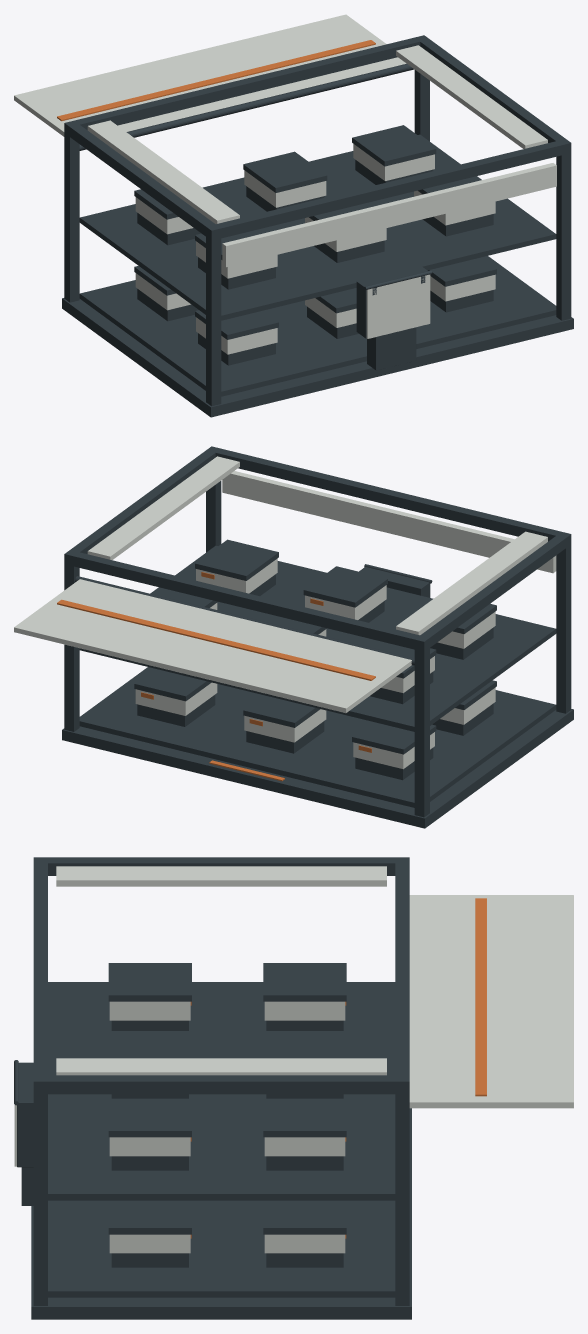
Rendered from storage.glb.
3 renders of one model, top to bottom at view 1: azimuth 30°, elevation 25°; view 2: azimuth 150°, elevation 25°; view 3: azimuth 270°, elevation 25°, orthographic. The views are drawn at different scales.
Parts seen in each view (by area): view 1: Structure, GatePanel, RearPanel, TopCanopy, Crate_T03, Crate_T05, ServiceCoverPanel, Crate_B02, Crate_B06, GateAxle, GateStrip, Crate_B04 (+7 smaller); view 2: Structure, GatePanel, TopCanopy, RearPanel, Crate_B03, Crate_B05, Crate_T04, Crate_T06, Crate_B01, GateStrip, Crate_T02, Crate_B02 (+5 smaller); view 3: Structure, GatePanel, TopCanopy, Crate_T05, Crate_T06, Crate_T01, Crate_T02, Crate_B05, Crate_B06, Crate_T03, Crate_T04, GateStrip (+1 smaller).
Boxes of the visible parts, left/top/right/bottom form: Structure: left=62, top=35, right=573, bottom=417; GatePanel: left=14, top=14, right=406, bottom=136; RearPanel: left=222, top=163, right=556, bottom=267; TopCanopy: left=87, top=45, right=547, bottom=223; Crate_T03: left=243, top=151, right=327, bottom=211; Crate_T05: left=352, top=125, right=436, bottom=184; ServiceCoverPanel: left=366, top=274, right=430, bottom=338; Crate_B02: left=195, top=310, right=278, bottom=365; Crate_B06: left=428, top=257, right=496, bottom=312; GateAxle: left=79, top=63, right=414, bottom=150; GateStrip: left=57, top=40, right=375, bottom=121; Crate_B04: left=305, top=288, right=358, bottom=338; Structure: left=62, top=446, right=573, bottom=828; GatePanel: left=14, top=579, right=411, bottom=712; TopCanopy: left=87, top=456, right=547, bottom=635; RearPanel: left=222, top=471, right=556, bottom=573; Crate_B03: left=243, top=695, right=326, bottom=753; Crate_B05: left=134, top=668, right=217, bottom=726; Crate_T04: left=303, top=566, right=387, bottom=622; Crate_T06: left=195, top=539, right=278, bottom=596; Crate_B01: left=352, top=722, right=436, bottom=780; GateStrip: left=57, top=599, right=375, bottom=680; Crate_T02: left=430, top=603, right=496, bottom=659; Crate_B02: left=432, top=680, right=496, bottom=735; Structure: left=31, top=857, right=411, bottom=1319; GatePanel: left=409, top=895, right=573, bottom=1108; TopCanopy: left=56, top=866, right=386, bottom=1075; Crate_T05: left=263, top=1098, right=346, bottom=1170; Crate_T06: left=108, top=1098, right=191, bottom=1170; Crate_T01: left=263, top=963, right=346, bottom=1030; Crate_T02: left=108, top=963, right=191, bottom=1030; Crate_B05: left=263, top=1200, right=346, bottom=1267; Crate_B06: left=108, top=1200, right=191, bottom=1267; Crate_T03: left=263, top=1031, right=346, bottom=1098; Crate_T04: left=108, top=1031, right=191, bottom=1098; GateStrip: left=475, top=898, right=486, bottom=1096.
Bounding box in the file's own units: 4.5 × 2.2 × 4.71.
